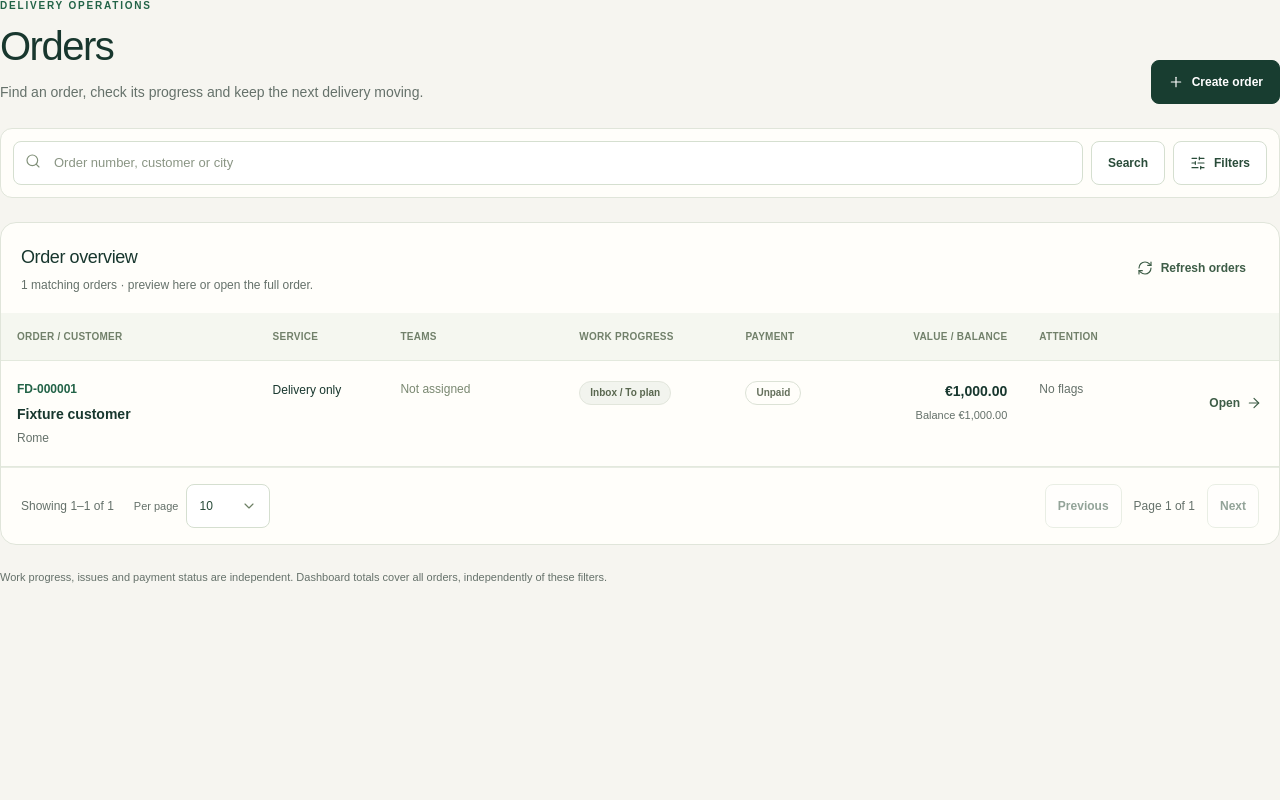
Test case: Orders table and read-only quick view › lets the user retry a real detail failure without presenting a list summary as loaded detail
This screenshot has width=1280, height=800.
Click the button "FD-000001": (47, 389) left=17, top=381, right=77, bottom=397
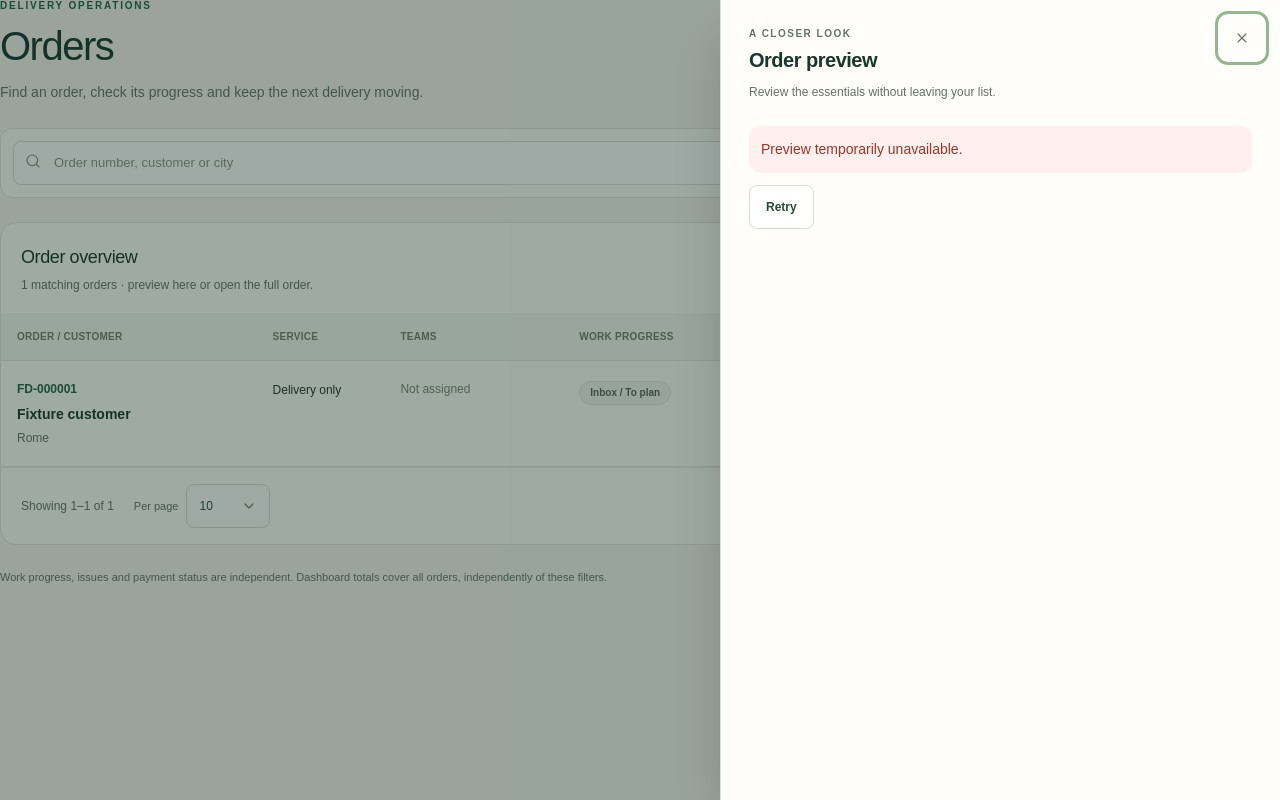
Result: the message shows "Preview temporarily unavailable" at left=761, top=141, right=962, bottom=157
Click the button "Retry": (781, 207) left=749, top=185, right=814, bottom=229
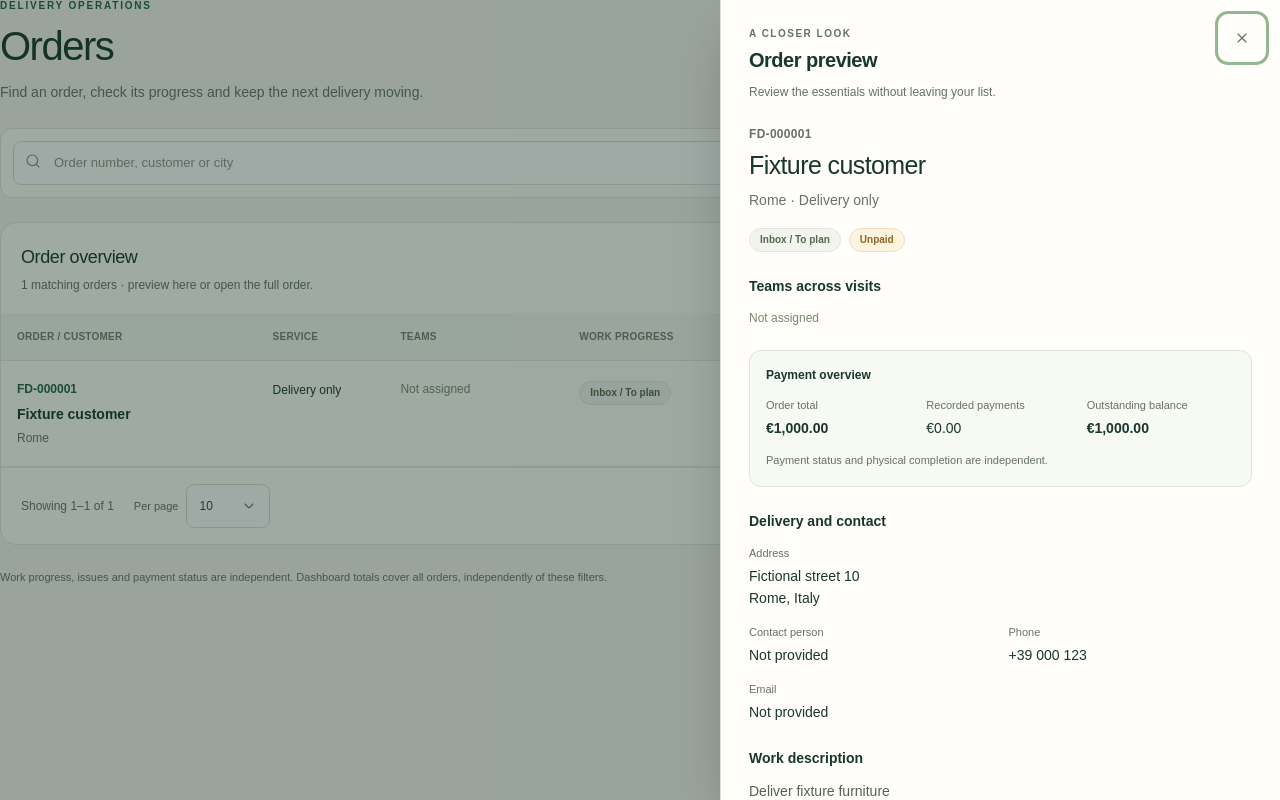
Result: the message "Preview temporarily unavailable." is gone
Click the button named "Close preview": (1242, 38) left=1220, top=16, right=1264, bottom=60
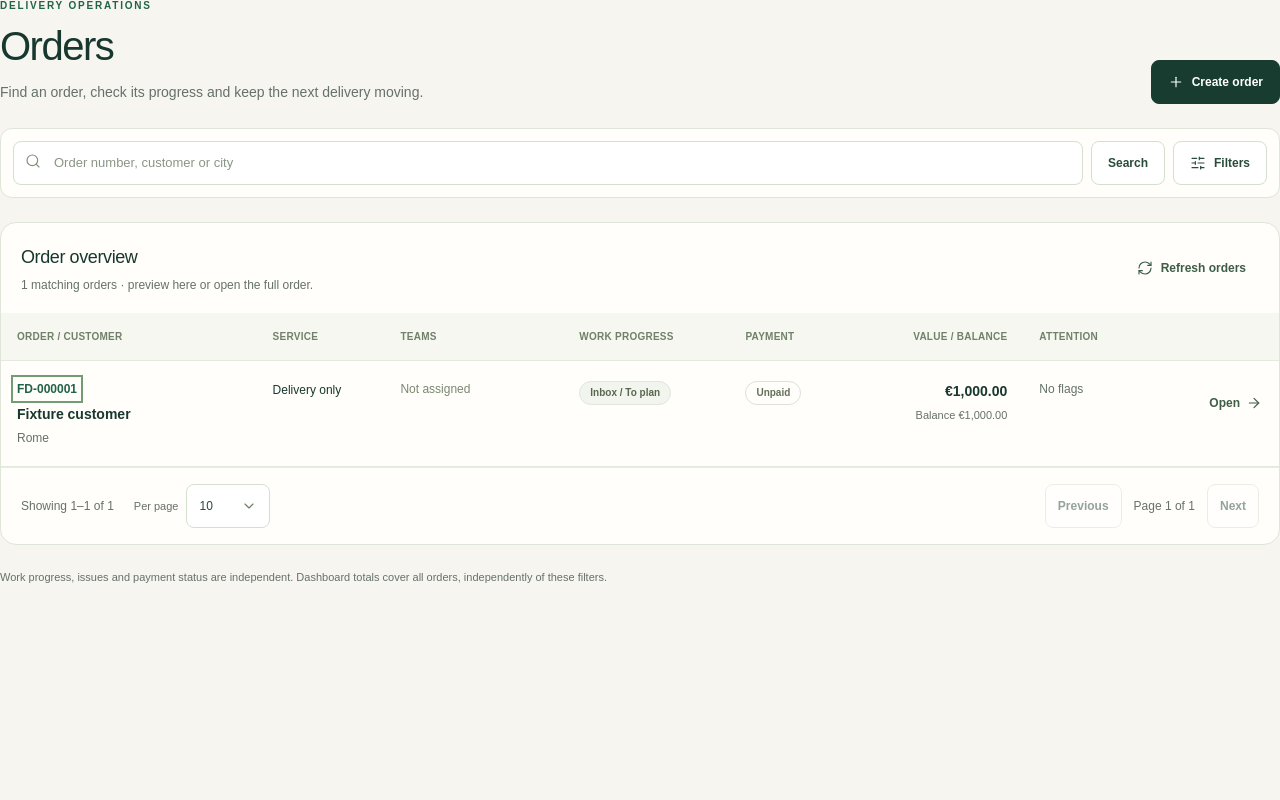
Result: the dialog is gone
